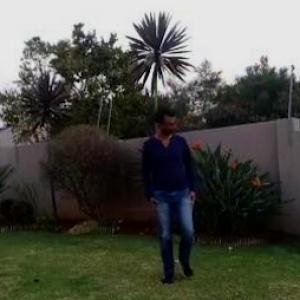follow: (144, 104, 202, 285)
